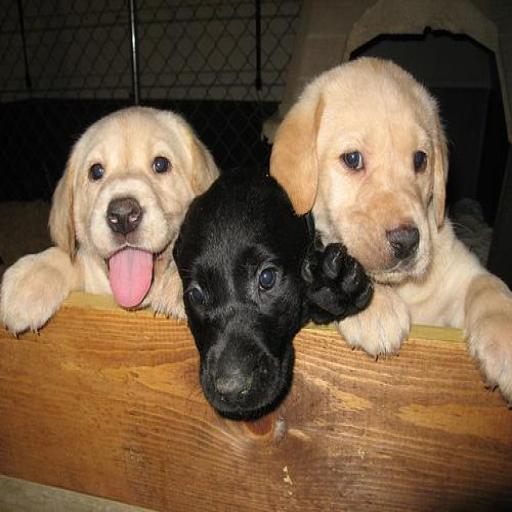dog_face: (284, 54, 466, 298), (172, 205, 310, 413), (51, 113, 183, 306)
